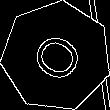O_SE: (23, 25, 89, 88)
